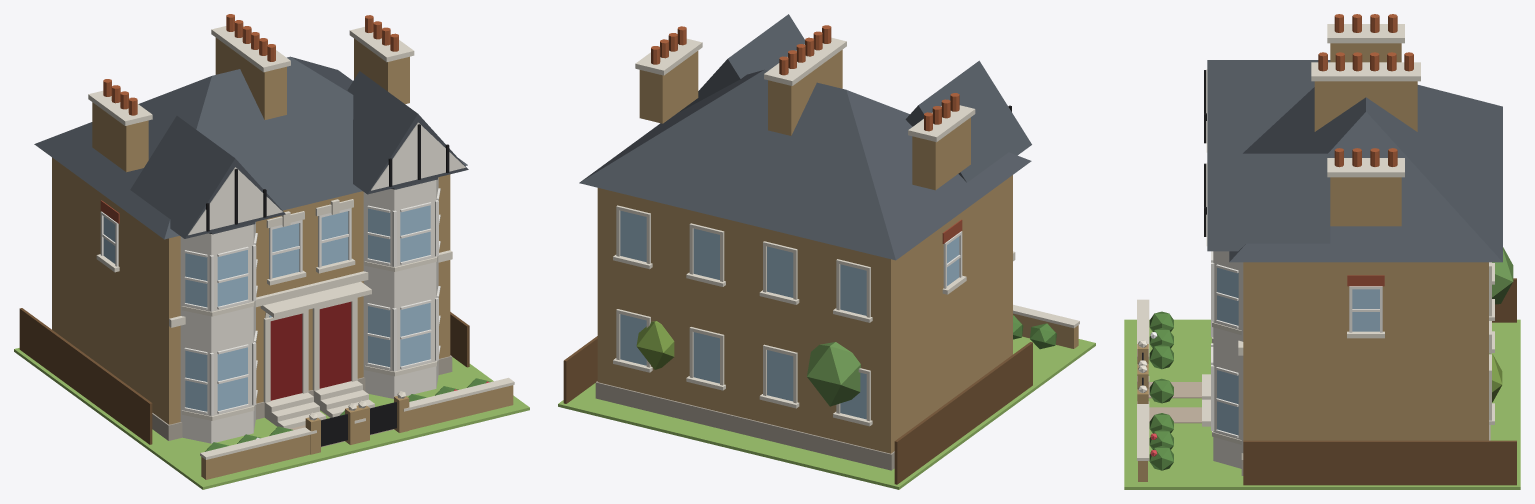
File: MustakilEv_londra_ikiz_2_Hafif.fbx
3 renders of one model, left to right at view 1: azimuth 30°, elevation 25°; view 2: azimuth 150°, elevation 25°; view 3: azimuth 270°, elevation 25°, orthographic. The views are drawn at different scales.
Visible parts, largest first — view 1: MustakilEv_londra_ikiz_2_Hafif; view 2: MustakilEv_londra_ikiz_2_Hafif; view 3: MustakilEv_londra_ikiz_2_Hafif.
Part boxes in pixels (box(x1,y1,x2,y2)): MustakilEv_londra_ikiz_2_Hafif: box(14, 14, 529, 489); MustakilEv_londra_ikiz_2_Hafif: box(558, 14, 1095, 489); MustakilEv_londra_ikiz_2_Hafif: box(1124, 14, 1520, 489).
Bounding box in the file's own units: 10 × 9.79 × 10.
